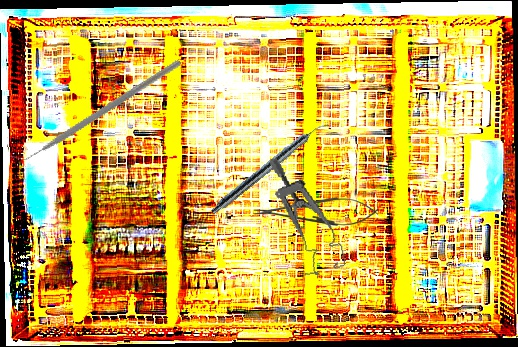Chopper: (8, 12, 182, 206)
Handpiece: (209, 116, 330, 219)
Needle Holder: (254, 197, 378, 226)
Speculum: (267, 148, 348, 280)
